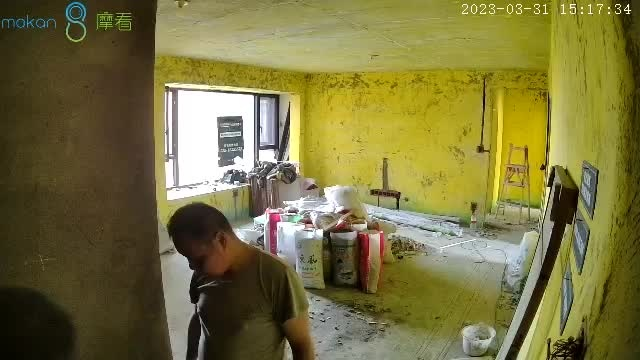people: (166, 202, 315, 360)
window: (166, 87, 283, 192)
